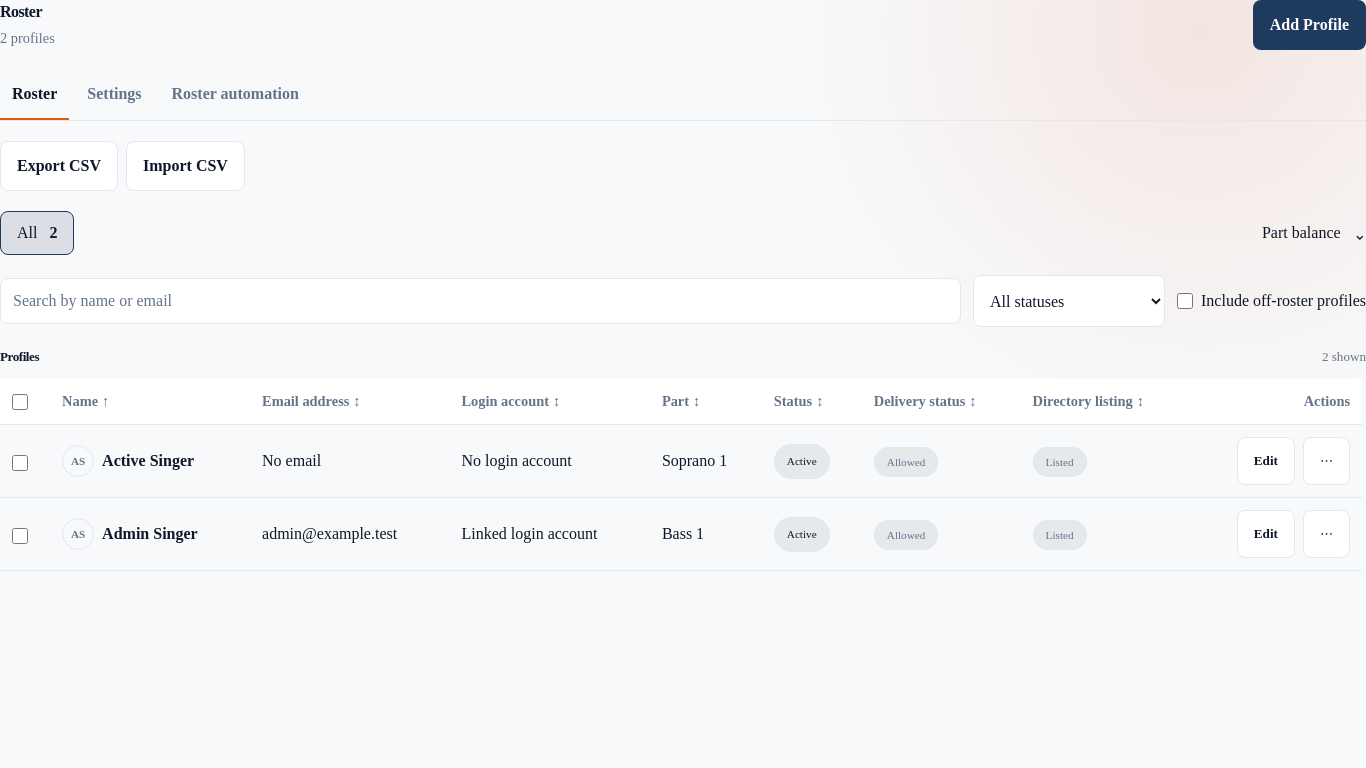
Scenario: RosterPage Safe Profile Removal (#169) › permanently deletes an unreferenced profile with confirmation modal
Click the button named "More actions for Active Singer" at (1326, 461), box x1=1303 y1=437 x2=1350 y2=485
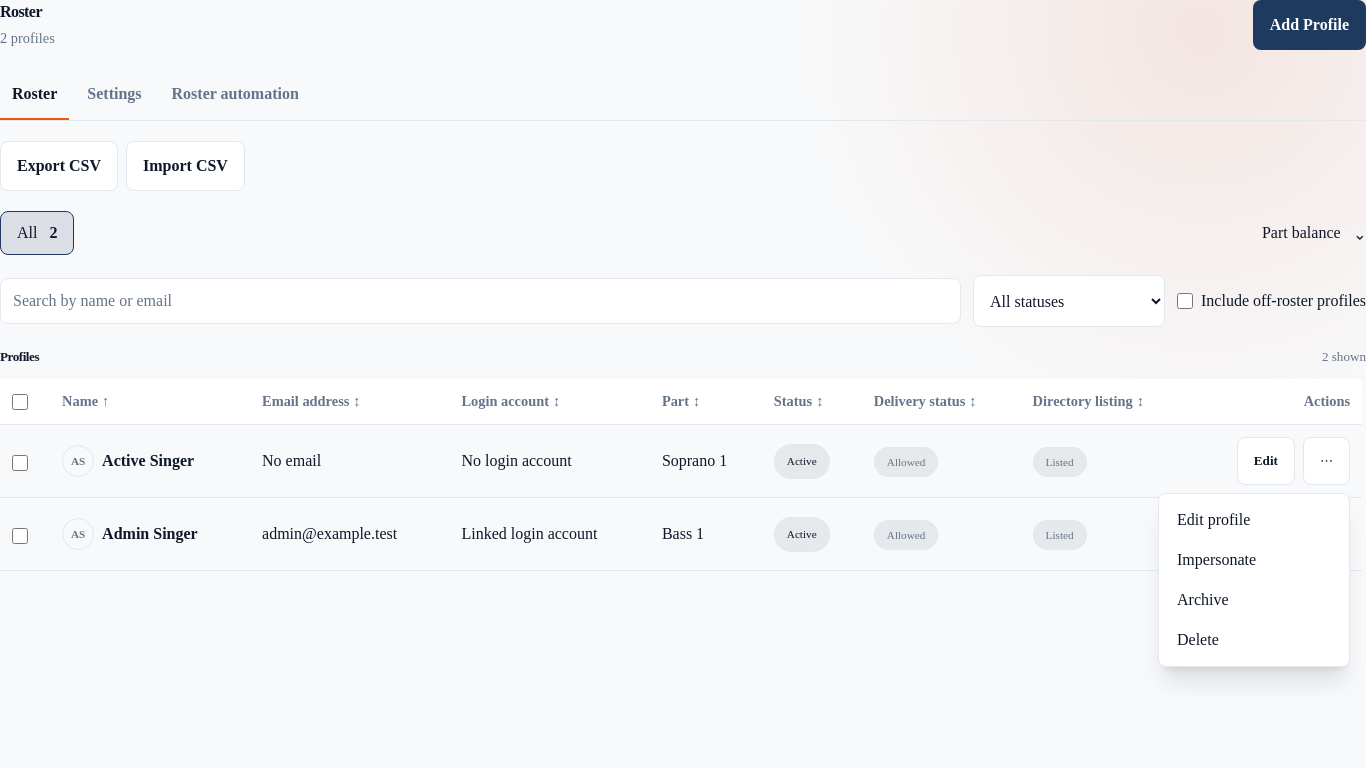
Result: the menu item "Delete" is shown
Click the menu item "Delete" at (1254, 640), box x1=1165 y1=620 x2=1343 y2=660
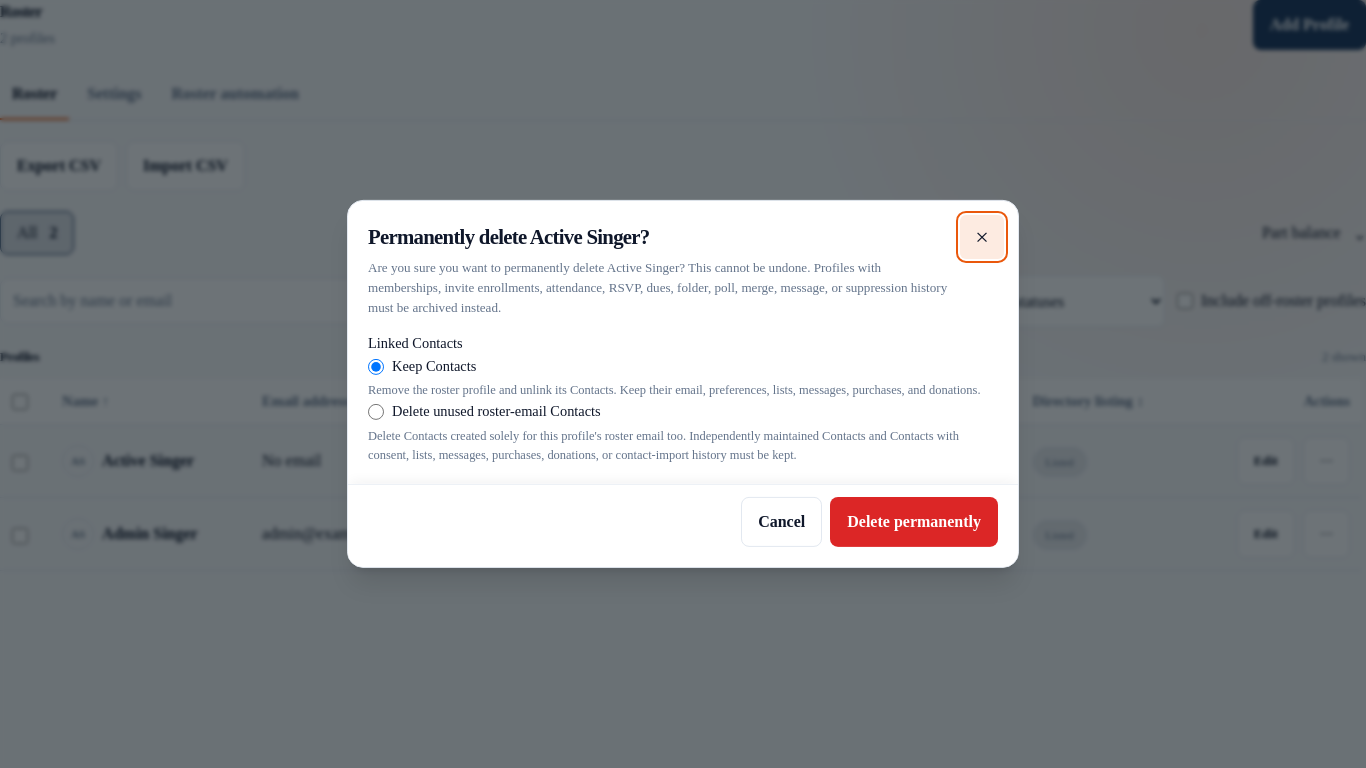
Result: the heading "Permanently delete Active Singer?" is shown at x1=368 y1=225 x2=650 y2=248
Result: the text "Are you sure you want to permanently delete Active Singer? This cannot be undone" is shown at x1=368 y1=260 x2=947 y2=314
Result: the text "Remove the roster profile and unlink its Contacts" is shown at x1=368 y1=383 x2=980 y2=397
Click the button "Delete permanently" at (914, 522), box x1=830 y1=497 x2=998 y2=547
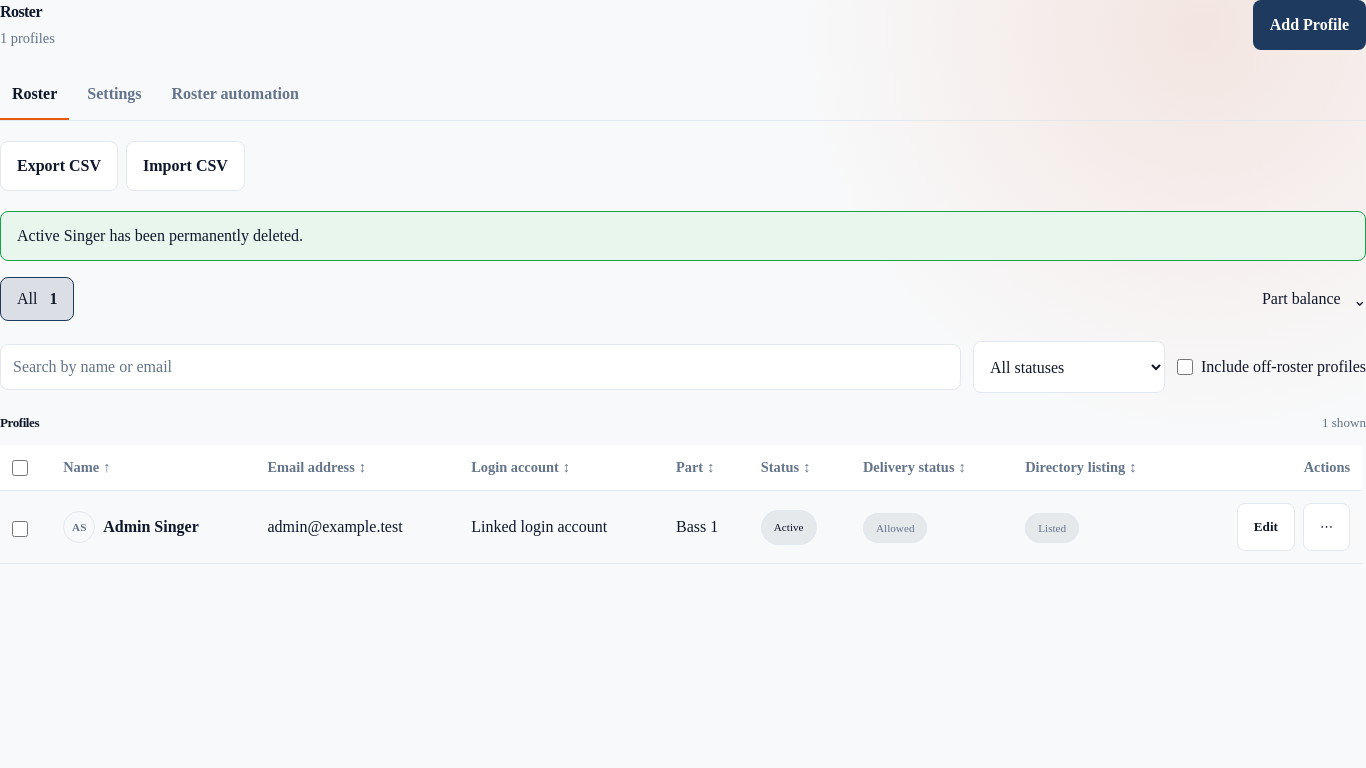
Result: the text "Active Singer has been permanently deleted." is shown at x1=0 y1=211 x2=1365 y2=261
